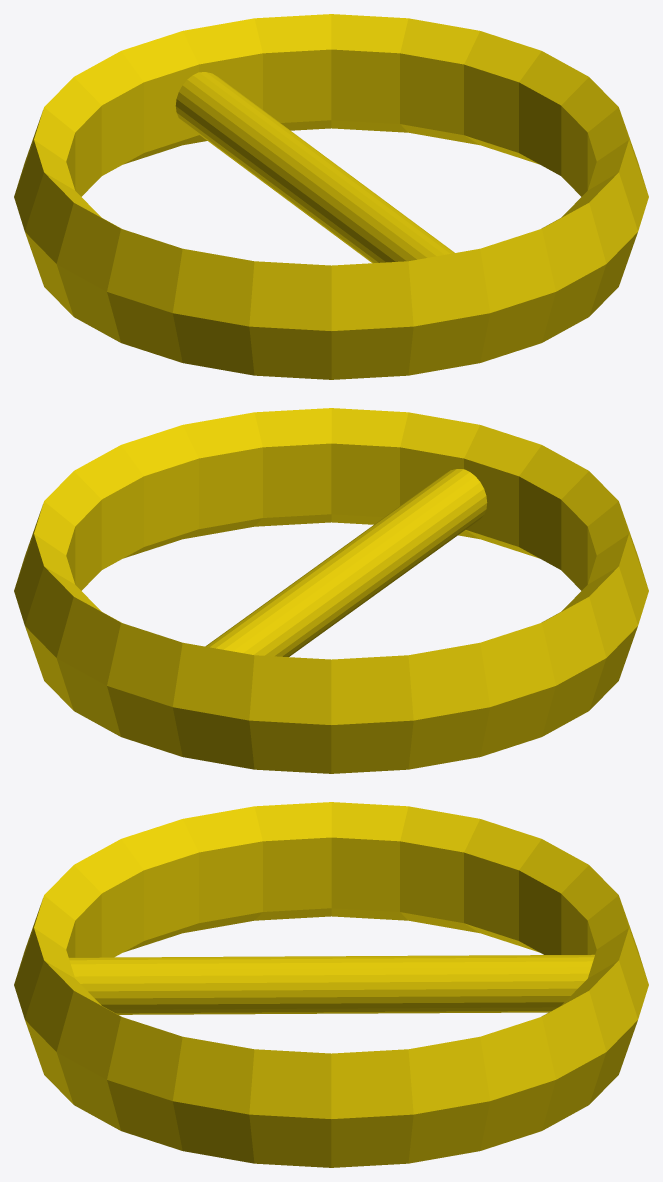
Rendered from gyroscope1.glb.
3 renders of one model, top to bottom at view 1: azimuth 30°, elevation 25°; view 2: azimuth 150°, elevation 25°; view 3: azimuth 270°, elevation 25°, orthographic.
Visible parts, largest first — view 1: Torus.001, Cylinder; view 2: Torus.001, Cylinder; view 3: Torus.001, Cylinder.
Part boxes in pixels (x1,y1,x2,y2): Torus.001: [14, 14, 648, 379]; Cylinder: [175, 72, 454, 263]; Torus.001: [14, 408, 648, 773]; Cylinder: [205, 469, 487, 656]; Torus.001: [14, 802, 648, 1167]; Cylinder: [69, 954, 594, 1014].
Size of the model in its own units: 2.2 by 0.4375 by 2.2.
